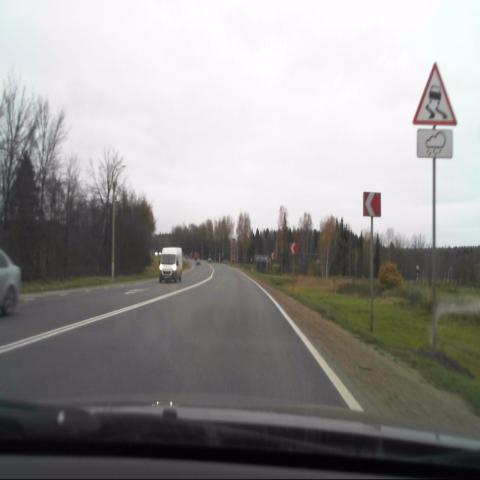1_15: (412, 57, 458, 125)
8_16: (416, 126, 453, 159)
